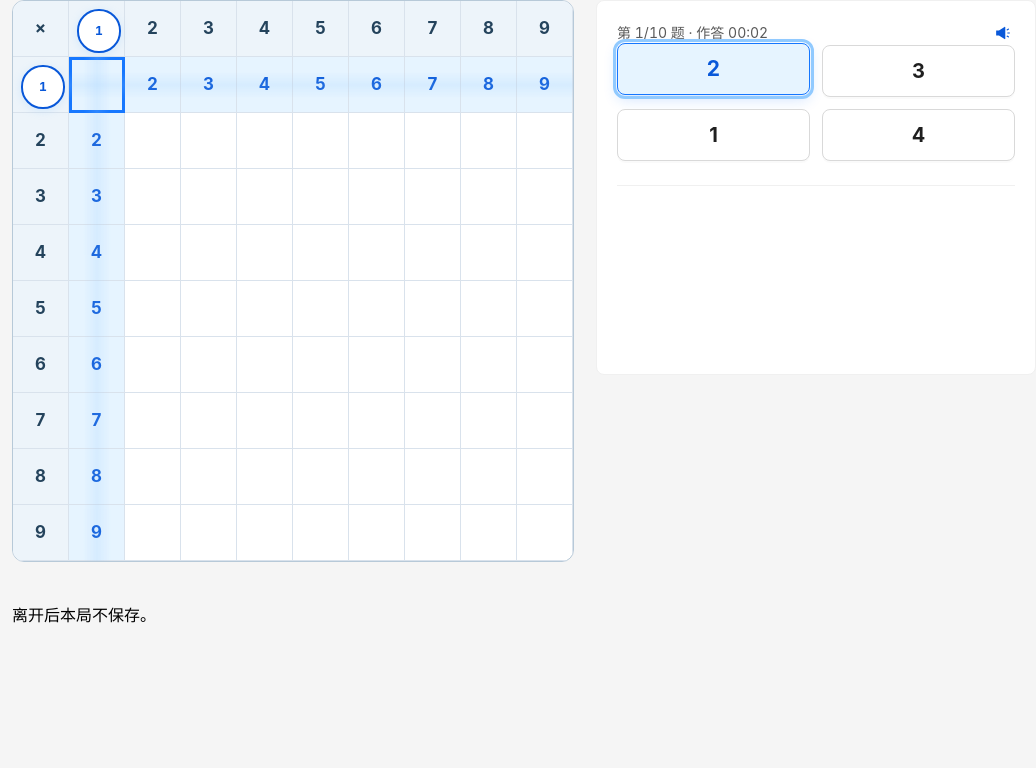
Test: 九九乘法最小闭环 › 反馈期间暂停计时，切题后继续计时
This screenshot has width=1036, height=768.
Expected: the text "第 1/10 题 · 作答 00:02" is shown, [617,22,768,44]
Click the button named "选择答案 1": (714, 135) [617,109,810,161]
Wait 3300 ms
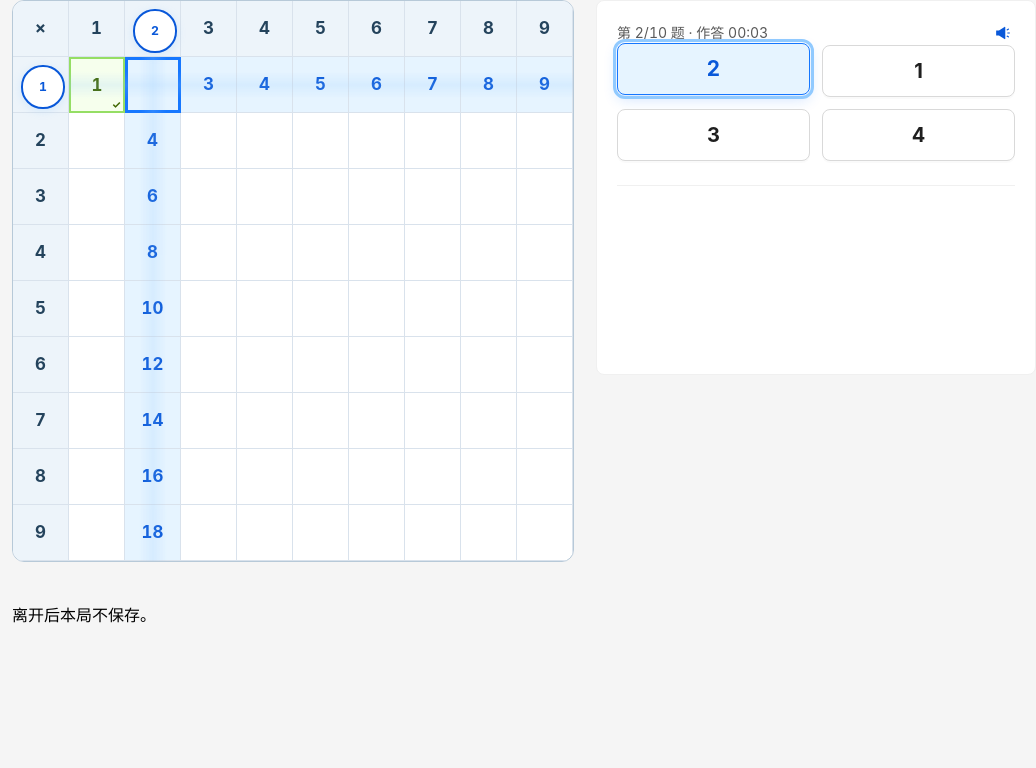
Now the text "第 2/10 题 · 作答 00:03" is shown, box [617,22,768,44]
